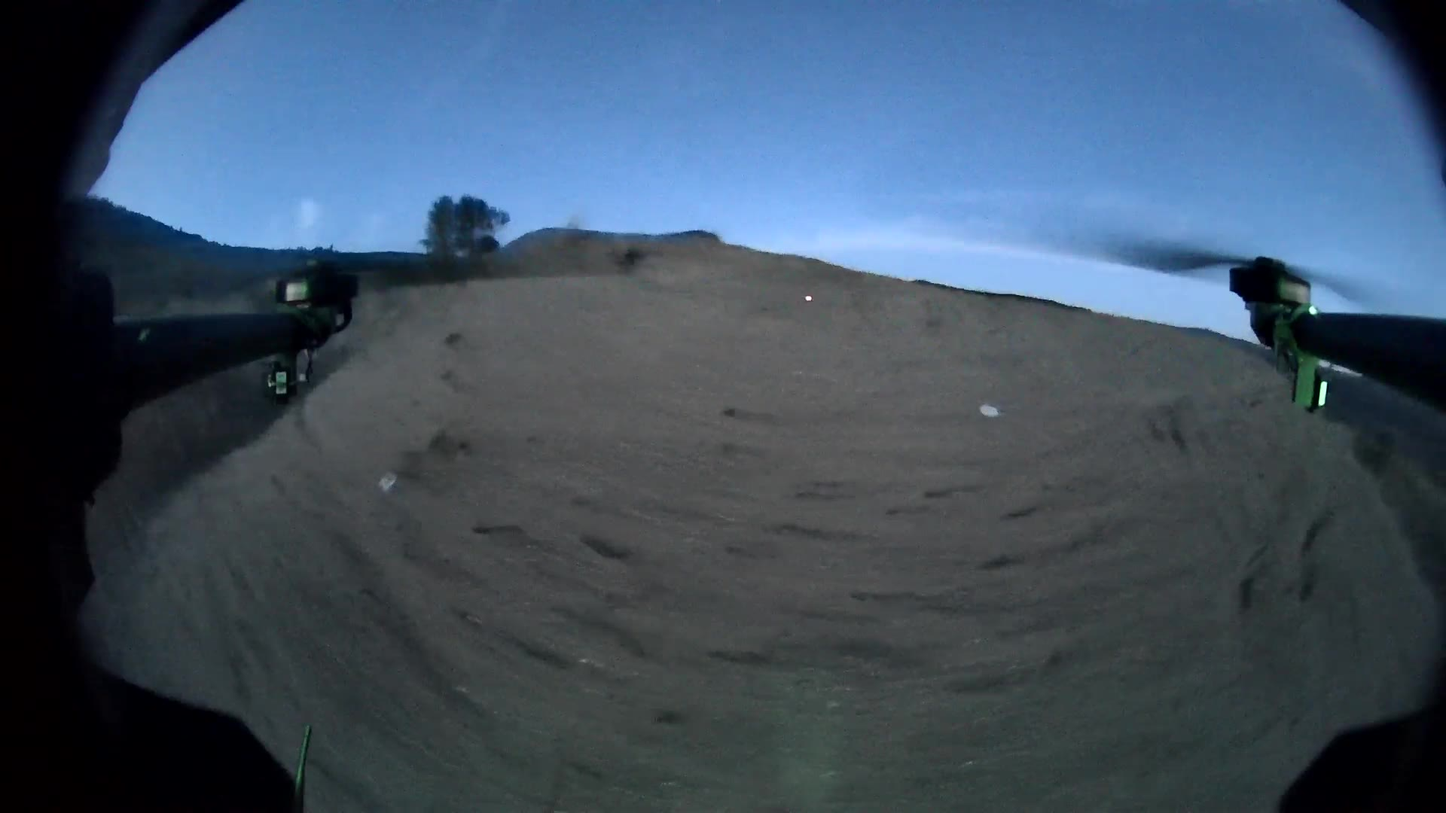Target: (376, 471, 400, 493), (976, 402, 1001, 419)
